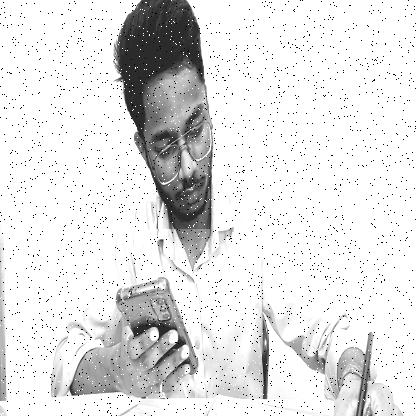Distracted: (113, 0, 218, 229)
